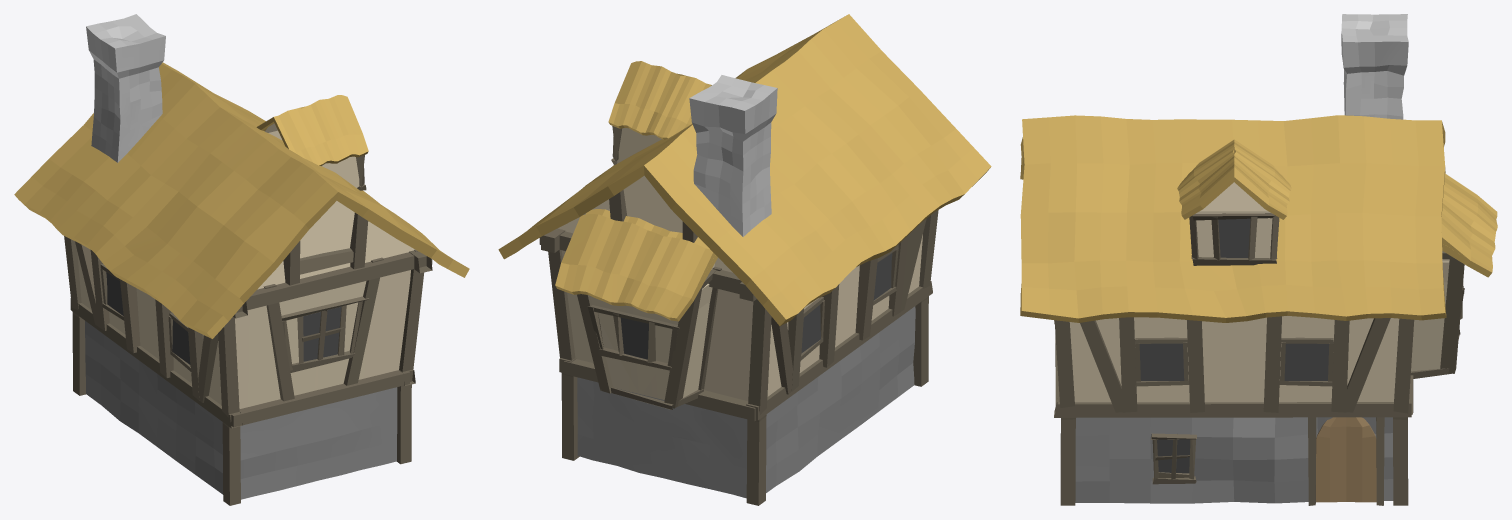
File: petite_maison.fbx
The picture shows the model from 3 angles, left to right: view 1: azimuth 30°, elevation 25°; view 2: azimuth 150°, elevation 25°; view 3: azimuth 270°, elevation 25°; orthographic projection. The views are drawn at different scales.
Visible parts, largest first — view 1: Cube; view 2: Cube; view 3: Cube.
Part boxes in pixels (x1,y1,x2,y2): Cube: (14, 14, 469, 505); Cube: (498, 14, 991, 505); Cube: (1020, 14, 1497, 505).
Bounding box in the file's own units: 730 × 934 × 1008.
